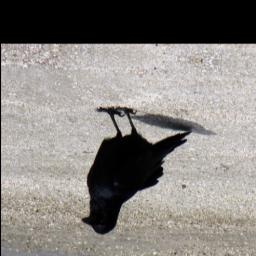Crow: (77, 102, 195, 244)
